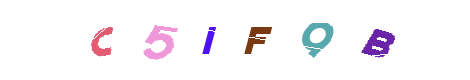5: (135, 0, 215, 80)
9: (277, 0, 357, 80)
B: (297, 0, 377, 80)
C: (69, 0, 149, 80)
F: (216, 0, 296, 80)
I: (193, 0, 273, 80)
